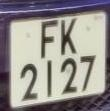1: (42, 56, 58, 102)
2: (16, 58, 43, 107), (57, 52, 81, 99)
7: (78, 51, 97, 94)
F: (36, 18, 60, 63)
K: (58, 15, 80, 61)
